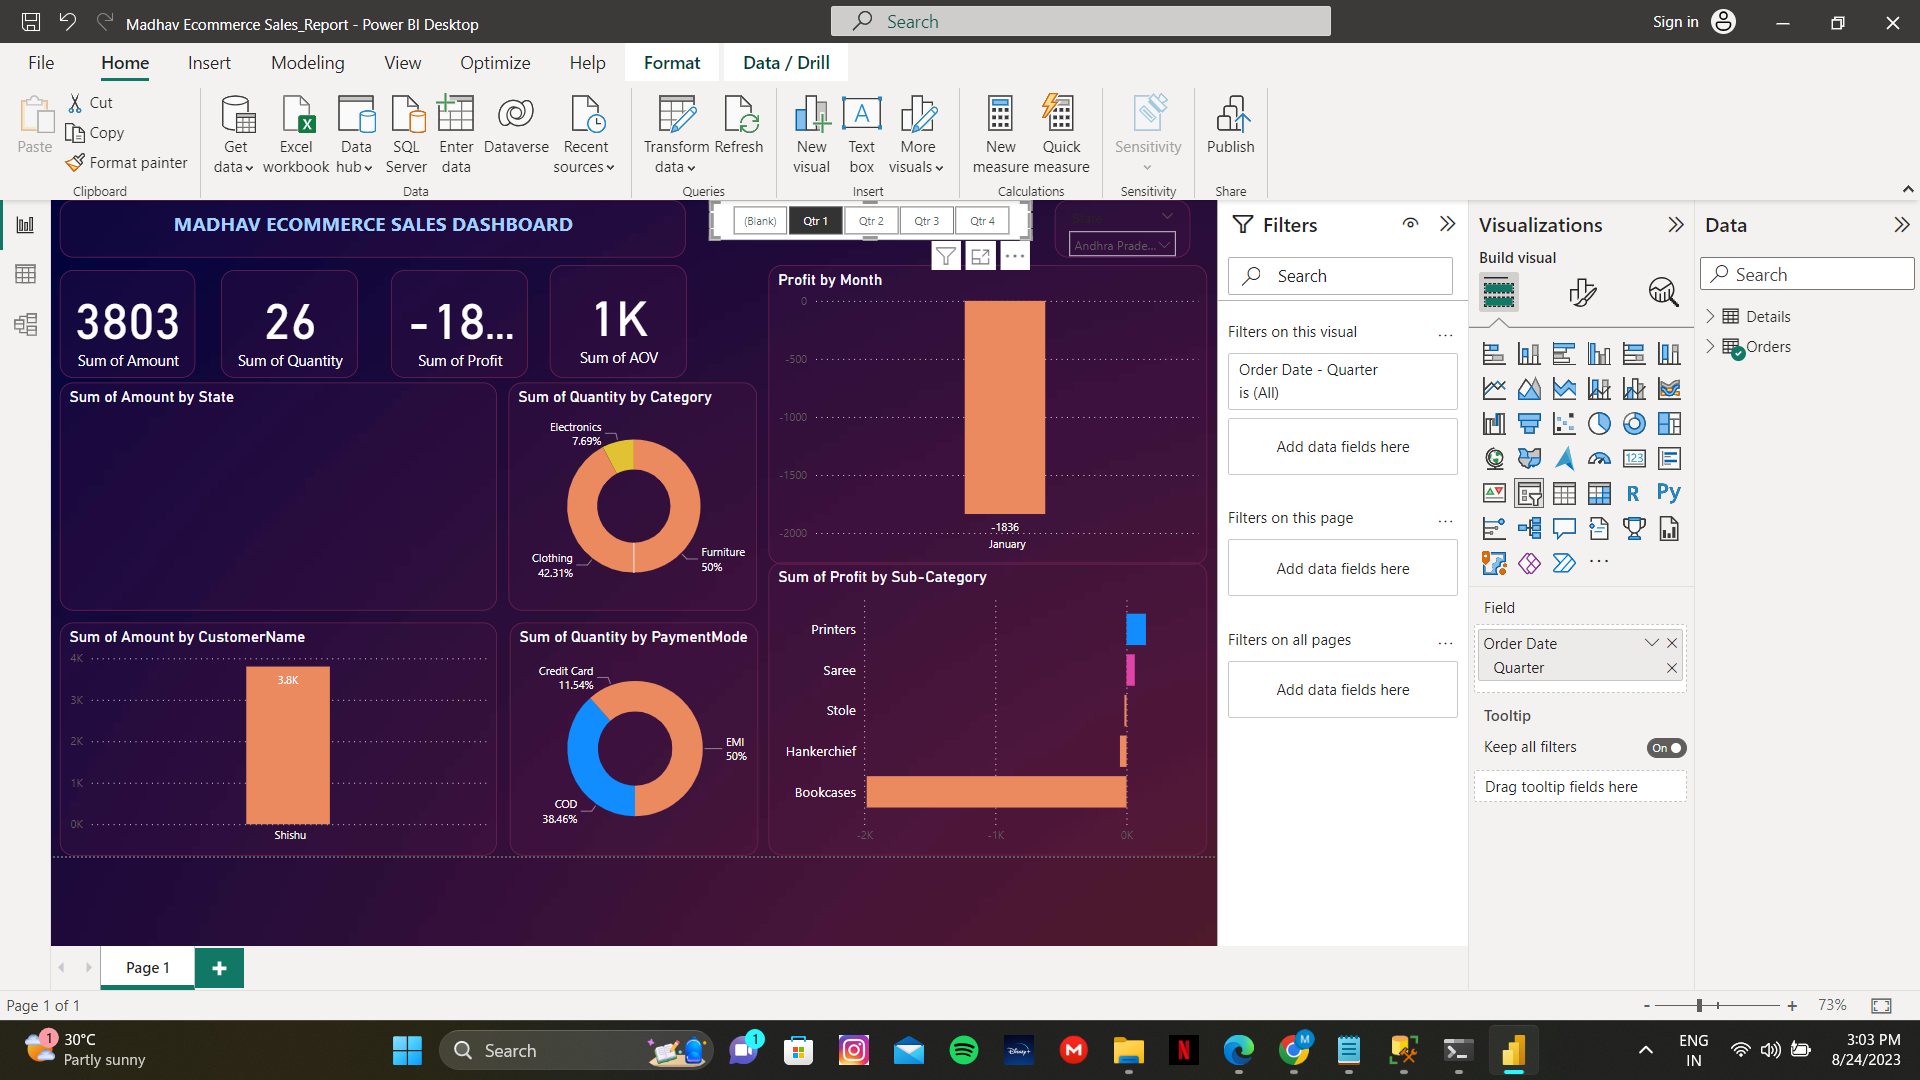

This screenshot's page, from the dashboard's own definition file:
{"tool":"powerbi","page":{"name":"Page 1","canvas":[1280,720],"ordinal":0},"visuals":[{"type":"textbox","box":[10,0,687.1,62.9],"z":0},{"type":"columnChart","title":"Profit by Month","fields":{"Y":["Sum(Details.Profit)"],"Category":["Orders.Order Date.Variation.Date Hierarchy.Month"]},"box":[787.1,71.4,481.4,328.6],"z":1000},{"type":"barChart","fields":{"Category":["Details.Sub-Category"],"Y":["Sum(Details.Profit)"]},"box":[787.1,398.6,481.4,321.4],"z":2000},{"type":"donutChart","fields":{"Category":["Details.Category"],"Y":["Sum(Details.Quantity)"]},"box":[502.9,200,272.9,250],"z":3000},{"type":"donutChart","fields":{"Y":["Sum(Details.Quantity)"],"Category":["Details.PaymentMode"]},"box":[504.3,464.3,272.9,255.7],"z":4000},{"type":"card","fields":{"Values":["Sum(Details.Amount)"]},"box":[10,77.1,148.6,118.6],"z":5000},{"type":"card","fields":{"Values":["Sum(Details.Quantity)"]},"box":[187.1,77.1,150,118.6],"z":6000},{"type":"card","fields":{"Values":["Sum(Details.Profit)"]},"box":[372.9,77.1,150,118.6],"z":7000},{"type":"card","fields":{"Values":["Sum(Details.AOV)"]},"box":[547.1,71.4,150,124.3],"z":8000},{"type":"barChart","fields":{"Category":["Orders.State"],"Y":["Sum(Details.Amount)"]},"box":[10,200,480,250],"z":9000},{"type":"columnChart","fields":{"Category":["Orders.CustomerName"],"Y":["Sum(Details.Amount)"]},"box":[10,464.3,480,255.7],"z":10000},{"type":"slicer","fields":{"Values":["Orders.Order Date.Variation.Date Hierarchy.Quarter"]},"box":[722.9,0,352.9,44.3],"z":11000},{"type":"slicer","fields":{"Values":["Orders.State"]},"box":[1101.4,0,148.6,62.9],"z":11001}]}

Visuals, with their boxes on the page's 1280x720 design canvas (x1, y1, x2, y2). These are canvas units, not pixel positions in the 1920x1080 screenshot, which may show the page scaled, cropped or inside an application window:
textbox: detection(10, 0, 697, 63)
"Profit by Month" columnChart: detection(787, 71, 1268, 400)
barChart - Details.Sub-Category x Sum(Details.Profit): detection(787, 399, 1268, 720)
donutChart - Details.Category x Sum(Details.Quantity): detection(503, 200, 776, 450)
donutChart - Sum(Details.Quantity) x Details.PaymentMode: detection(504, 464, 777, 720)
card - Sum(Details.Amount): detection(10, 77, 159, 196)
card - Sum(Details.Quantity): detection(187, 77, 337, 196)
card - Sum(Details.Profit): detection(373, 77, 523, 196)
card - Sum(Details.AOV): detection(547, 71, 697, 196)
barChart - Orders.State x Sum(Details.Amount): detection(10, 200, 490, 450)
columnChart - Orders.CustomerName x Sum(Details.Amount): detection(10, 464, 490, 720)
slicer - Orders.Order Date.Variation.Date Hierarchy.Quarter: detection(723, 0, 1076, 44)
slicer - Orders.State: detection(1101, 0, 1250, 63)
